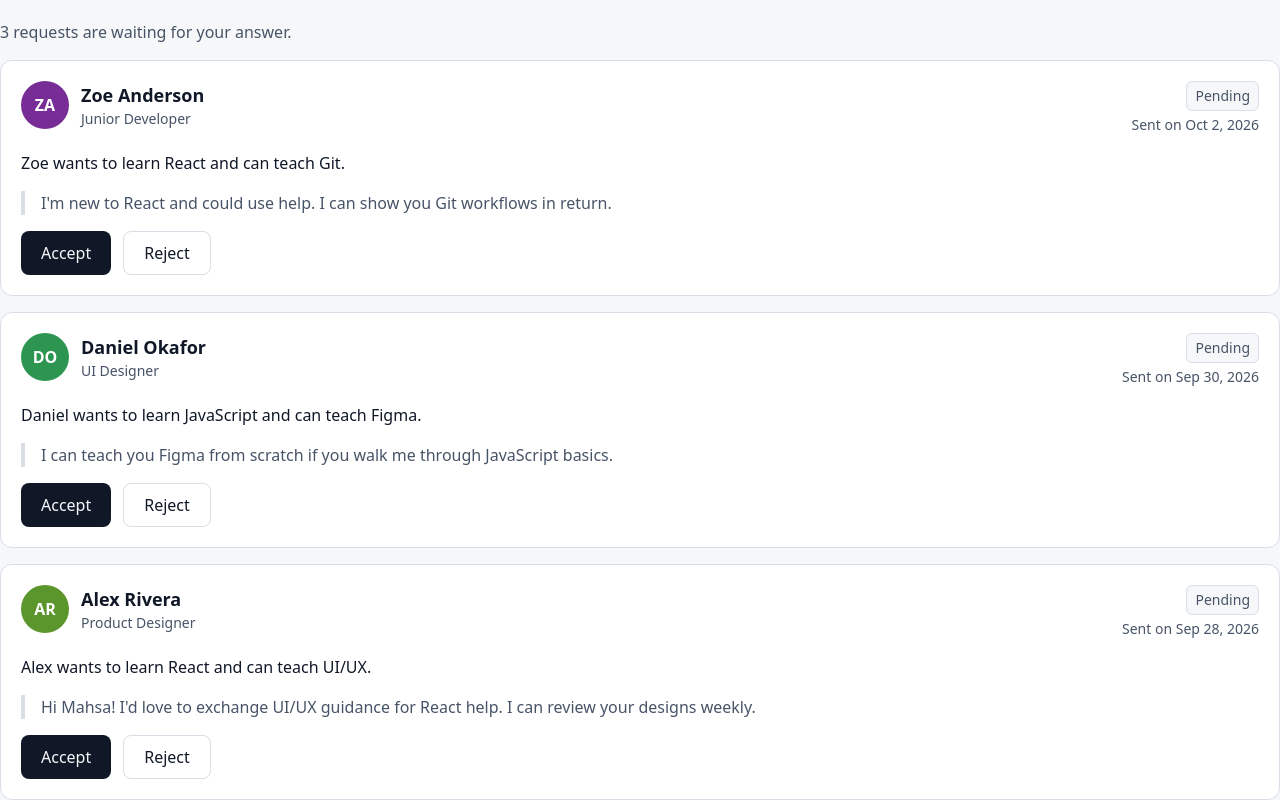
Scenario: Requests: accepting and rejecting › changes the card before the server has answered
(page scrolled)
Click the button with aria-label "Accept request from Alex Rivera" at (66, 757), box [21, 735, 111, 779]
(page scrolled)
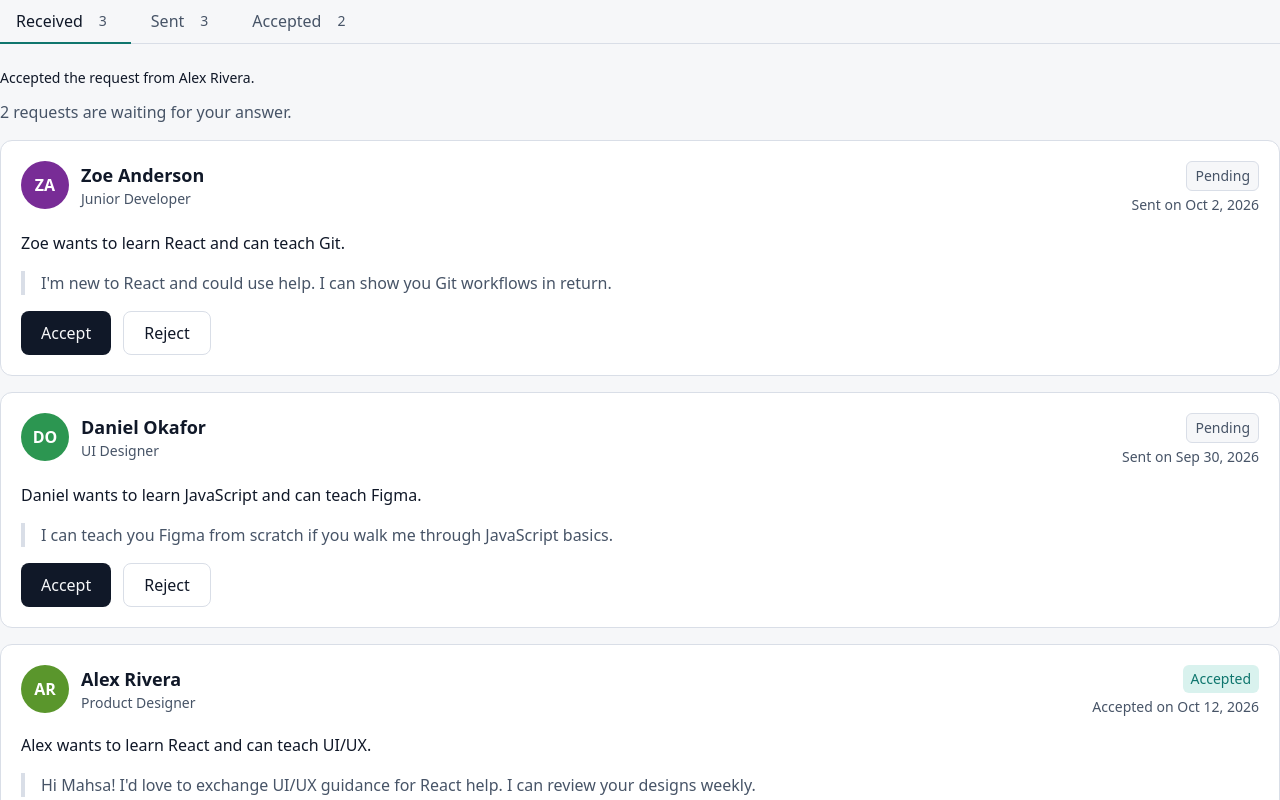
Expected: the text "Accepted" is shown, [1182, 665, 1259, 693]
Expected: the text "Accepted the request from Alex Rivera." is shown, [0, 68, 254, 87]
Expected: the tab "Accepted 2" is shown, [236, 0, 369, 44]
